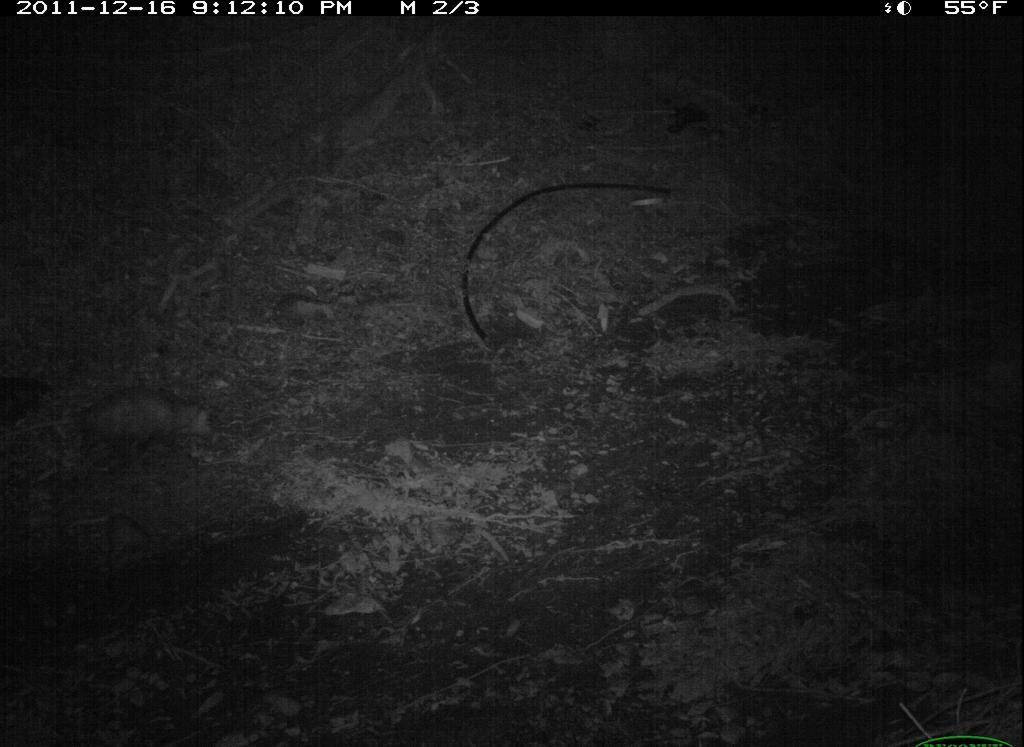opossum: (41, 373, 223, 479)
